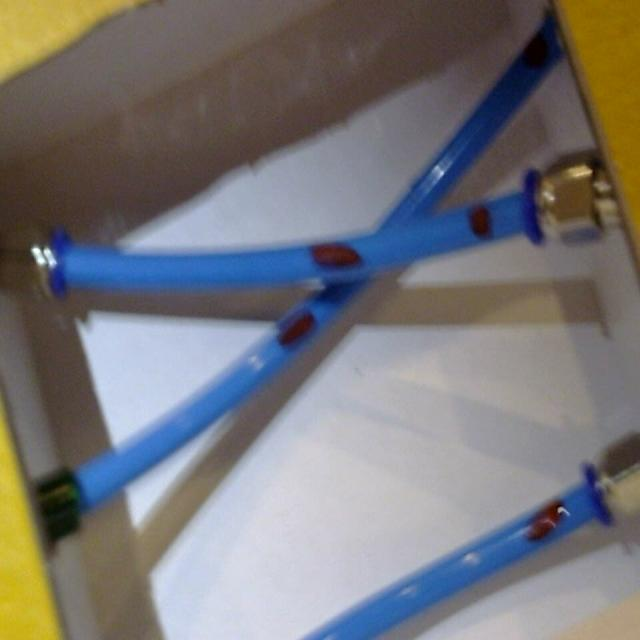hose_damage: (513, 494, 576, 550), (268, 302, 324, 359), (513, 24, 561, 84), (302, 235, 366, 275), (464, 199, 501, 244)
